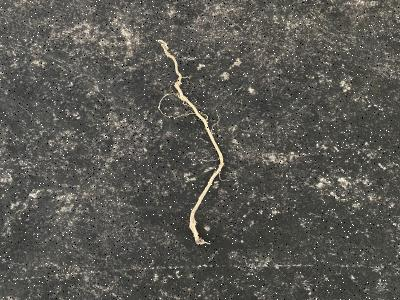Root: (158, 40, 224, 244)
